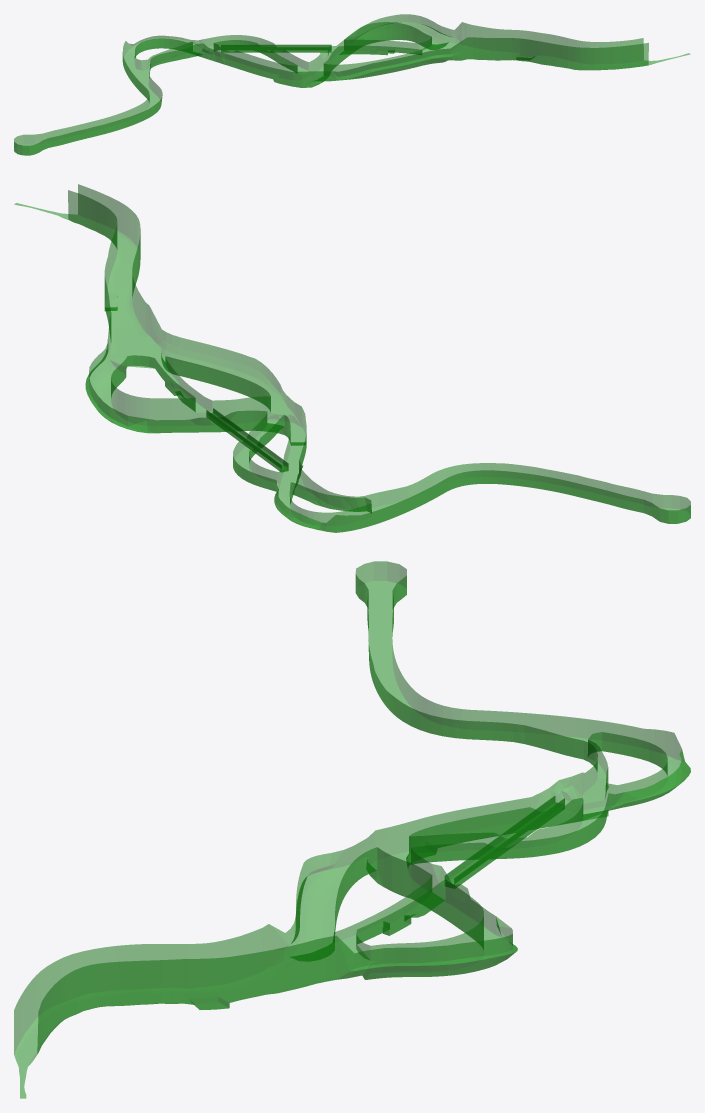
The model's file is _cam.obj.
3 views of the same model, one above another, from view 1: azimuth 30°, elevation 25°; view 2: azimuth 150°, elevation 25°; view 3: azimuth 270°, elevation 25° (orthographic). The views are drawn at different scales.
Bounding box in the file's own units: 1140 × 92.76 × 579.
